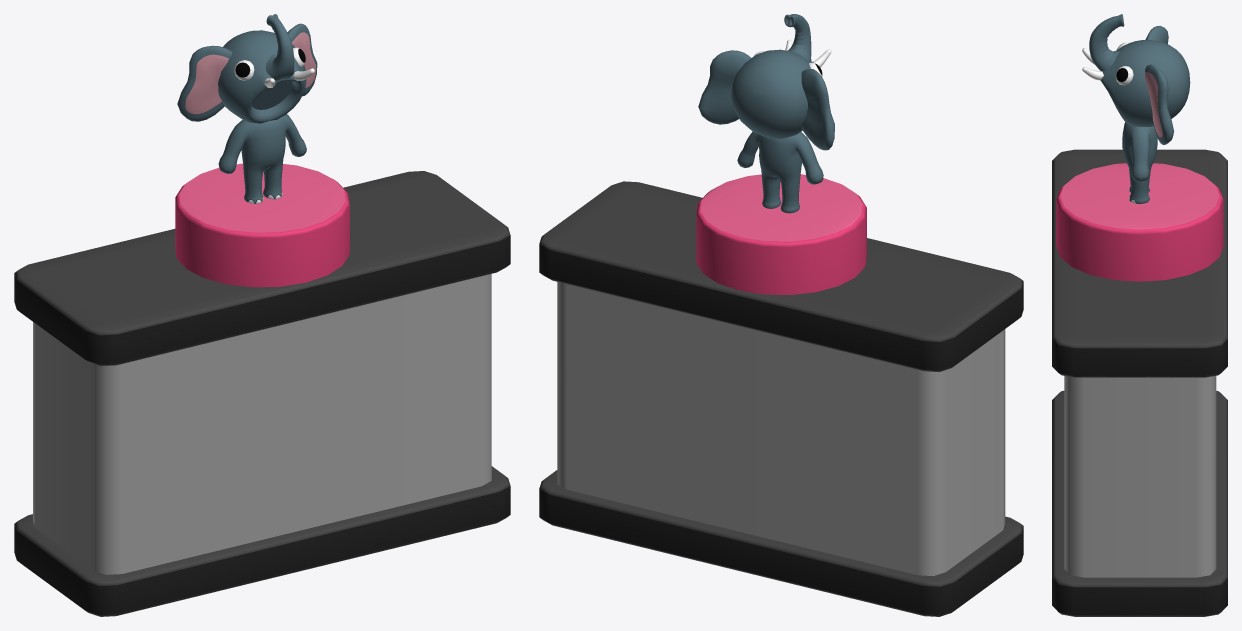
The model's file is Tukinh_voi.fbx.
3 views of the same model, side by side, from view 1: azimuth 30°, elevation 25°; view 2: azimuth 150°, elevation 25°; view 3: azimuth 270°, elevation 25° (orthographic). The views are drawn at different scales.
Parts seen in each view (by area): view 1: Glass_trans3, Vach7, Vach8, pedestal3, polySurface1527; view 2: Glass_trans3, Vach7, Vach8, pedestal3, polySurface1527; view 3: Glass_trans3, Vach7, pedestal3, Vach8, polySurface1527.
Part boxes in pixels (bbox=[...]): Glass_trans3: bbox=[33, 274, 491, 574]; Vach7: bbox=[14, 171, 510, 366]; Vach8: bbox=[14, 466, 510, 616]; pedestal3: bbox=[175, 163, 349, 287]; polySurface1527: bbox=[177, 14, 317, 203]; Glass_trans3: bbox=[557, 282, 1005, 575]; Vach7: bbox=[539, 181, 1023, 371]; Vach8: bbox=[539, 470, 1023, 616]; pedestal3: bbox=[696, 174, 866, 294]; polySurface1527: bbox=[698, 14, 834, 213]; Glass_trans3: bbox=[1064, 376, 1216, 577]; Vach7: bbox=[1052, 149, 1227, 377]; pedestal3: bbox=[1056, 163, 1223, 281]; Vach8: bbox=[1052, 390, 1227, 616]; polySurface1527: bbox=[1082, 14, 1190, 203].
Bounding box in the file's own units: 818 × 978 × 309.
